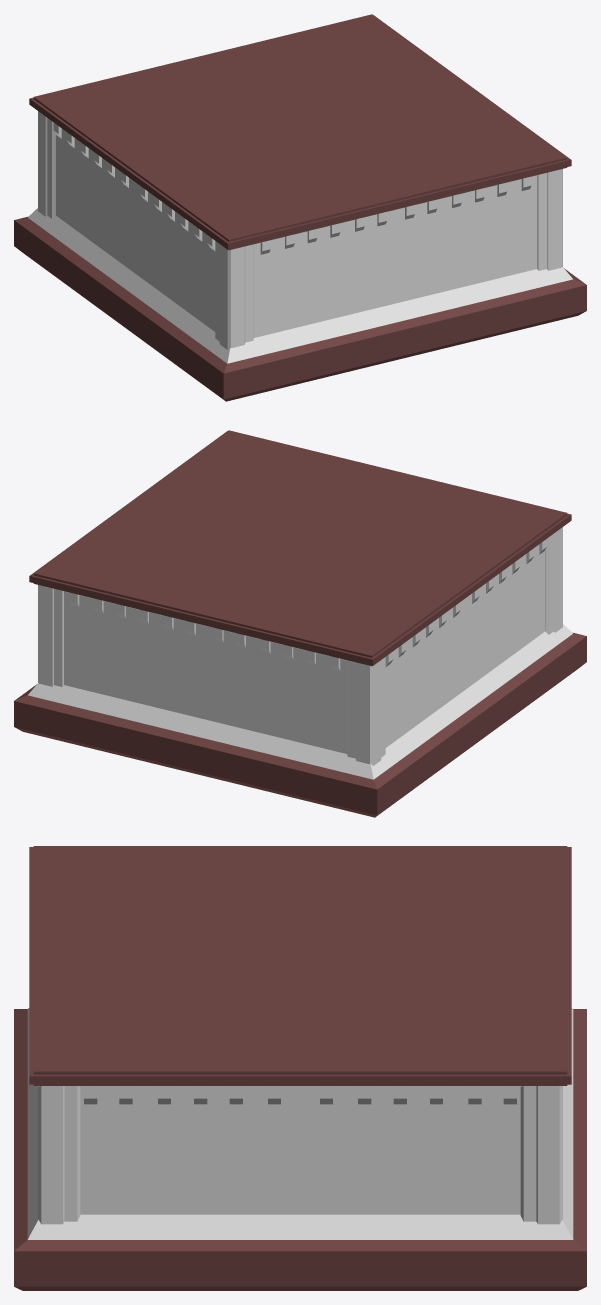
3 views of the same model, one above another, from view 1: azimuth 30°, elevation 25°; view 2: azimuth 150°, elevation 25°; view 3: azimuth 270°, elevation 25° (orthographic). The views are drawn at different scales.
Visible parts, largest first — view 1: floor5.0, floor5.0Decor; view 2: floor5.0, floor5.0Decor; view 3: floor5.0, floor5.0Decor.
Part boxes in pixels (bbox=[...]): floor5.0: bbox=[14, 14, 586, 401]; floor5.0Decor: bbox=[38, 111, 562, 349]; floor5.0: bbox=[14, 430, 586, 817]; floor5.0Decor: bbox=[38, 527, 562, 765]; floor5.0: bbox=[14, 846, 586, 1290]; floor5.0Decor: bbox=[38, 1086, 562, 1224].
Bounding box in the file's own units: 221 × 91.38 × 221.
